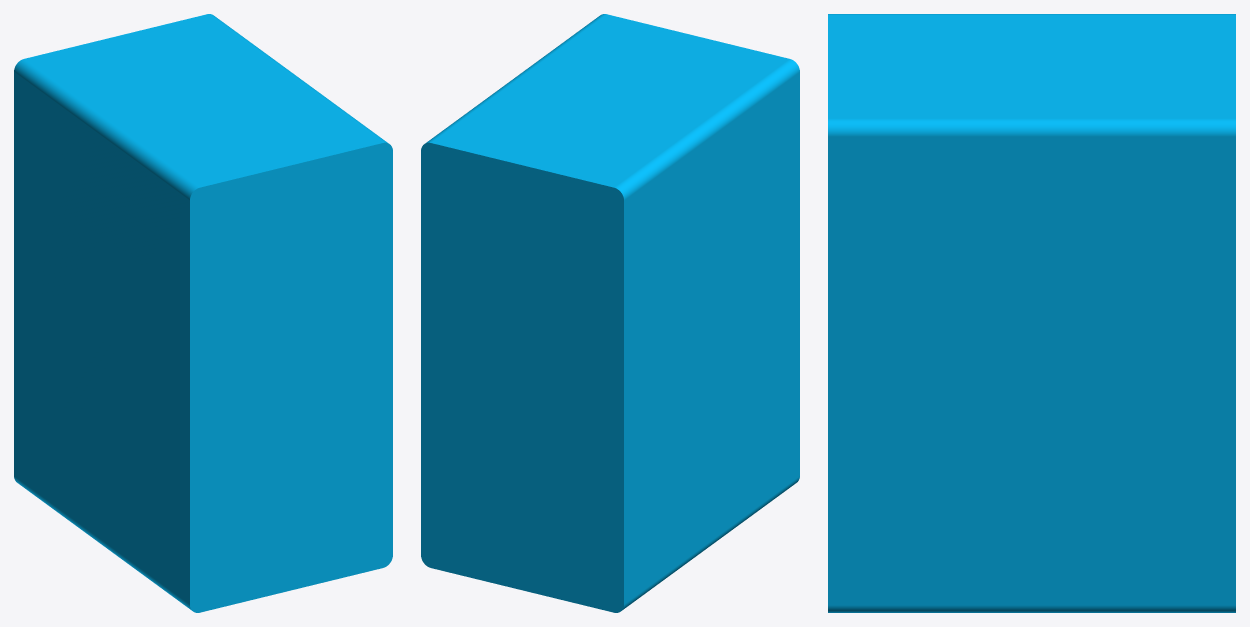
Rendered from parallel_Y_kenar_fillet.gltf.
3 views of the same model, side by side, from view 1: azimuth 30°, elevation 25°; view 2: azimuth 150°, elevation 25°; view 3: azimuth 270°, elevation 25° (orthographic). The views are drawn at different scales.
Parts seen in each view (by area): view 1: Gövde; view 2: Gövde; view 3: Gövde.
Boxes of the visible parts, x1,y1,x2,y2 form: Gövde: (14, 14, 392, 612); Gövde: (421, 14, 799, 612); Gövde: (828, 14, 1235, 612).
Bounding box in the file's own units: 0.01 × 0.02 × 0.015.
